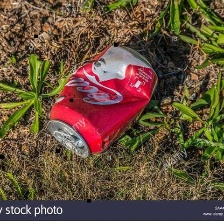can: (44, 41, 165, 161)
